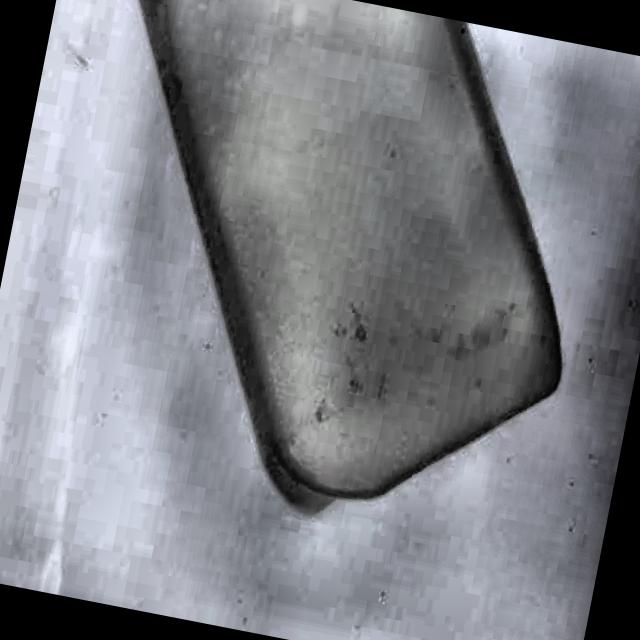plastic: (31, 0, 613, 547)
